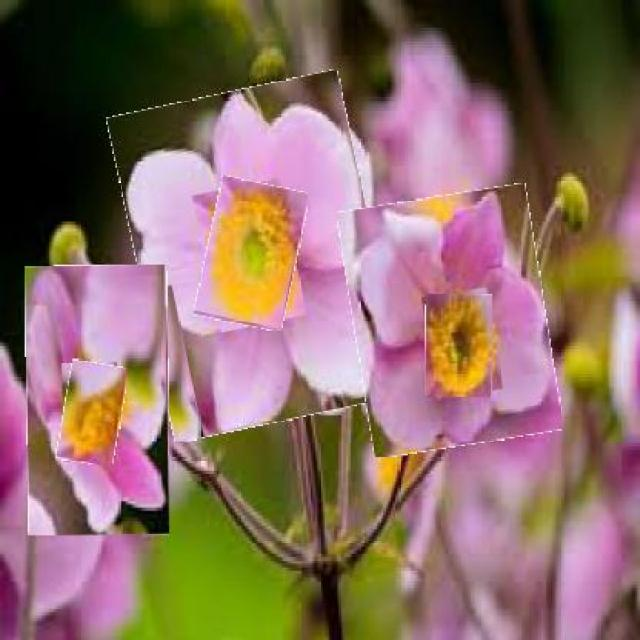Flower: (122, 79, 390, 433), (347, 190, 555, 453), (26, 266, 171, 537), (201, 180, 302, 329), (426, 294, 495, 398), (59, 361, 124, 465)
